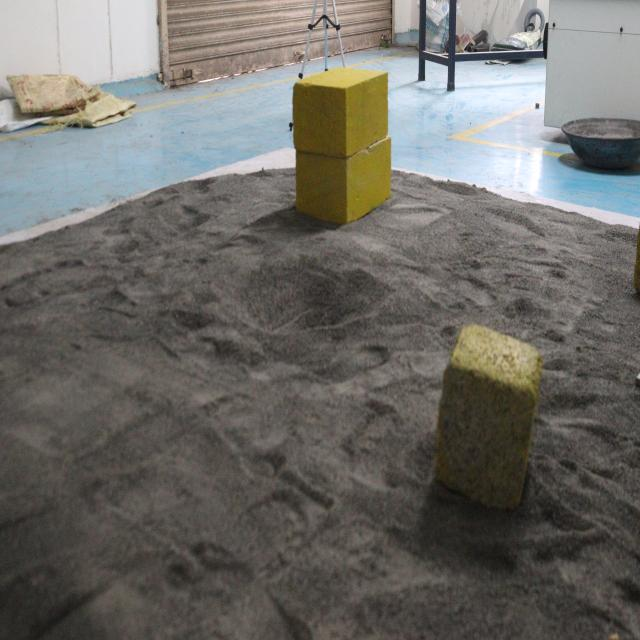box: (436, 322, 538, 508), (290, 62, 396, 228)
crater: (232, 243, 394, 348)
